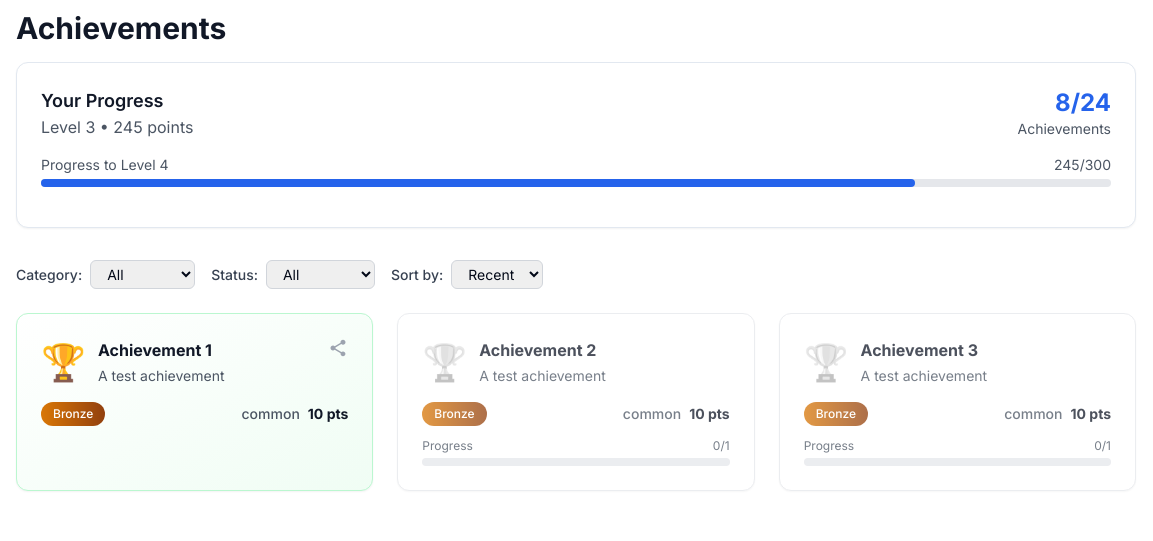
Test case: Achievements Component › User Interactions › toggles achievement details on multiple clicks
First click - show details
Step 1. Click the heading "Achievement 1" → (161, 350), box x1=98 y1=338 x2=224 y2=362
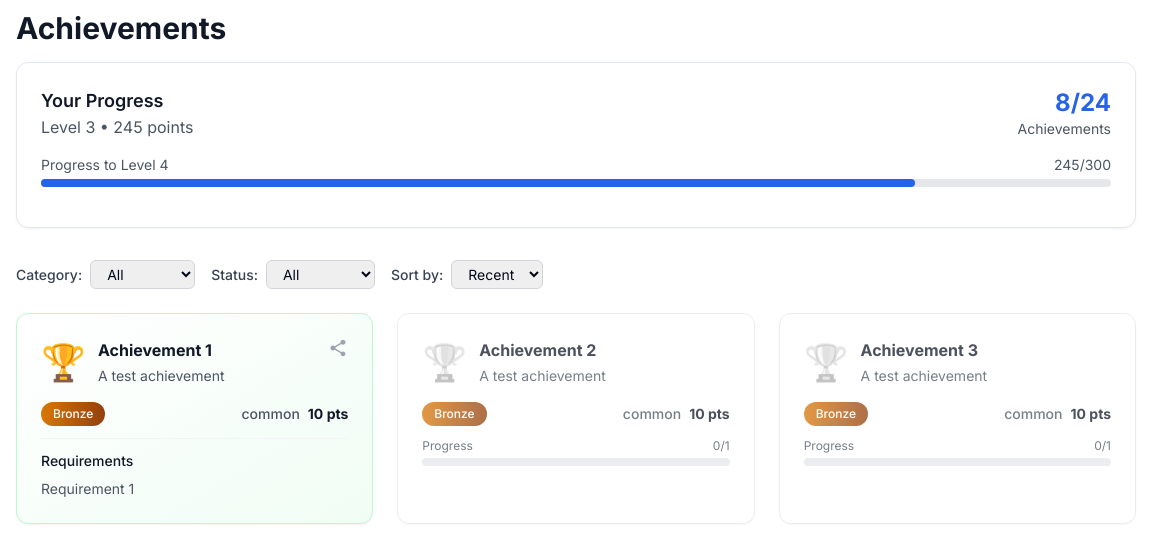
Check: the heading "Requirements" is shown, box x1=41 y1=452 x2=133 y2=469
Second click - hide details
Step 2. Click the heading "Achievement 1" → (161, 350), box x1=98 y1=338 x2=224 y2=362
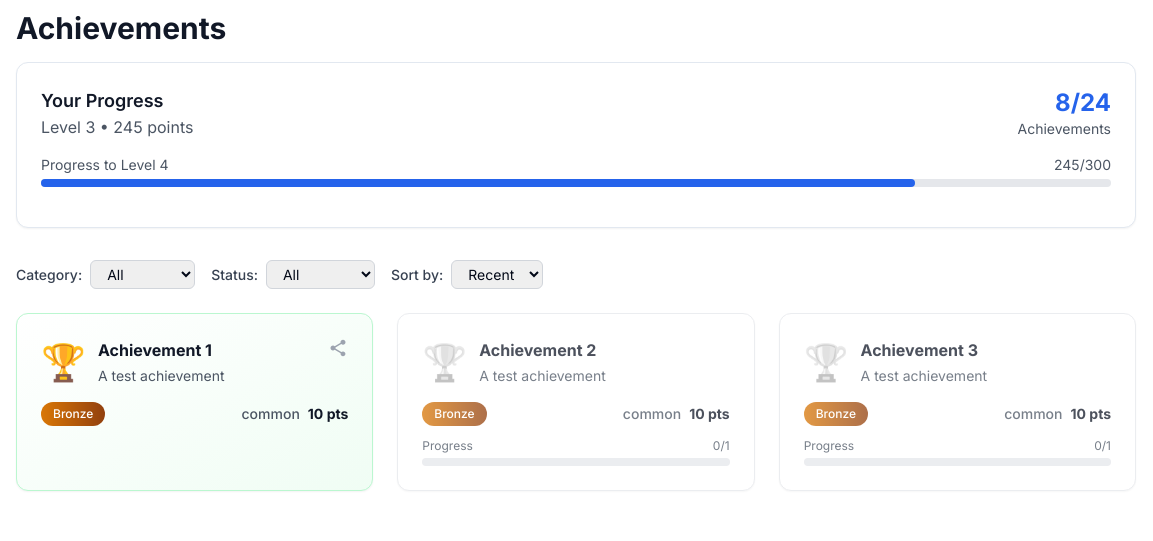
Check: the heading "Requirements" is gone
